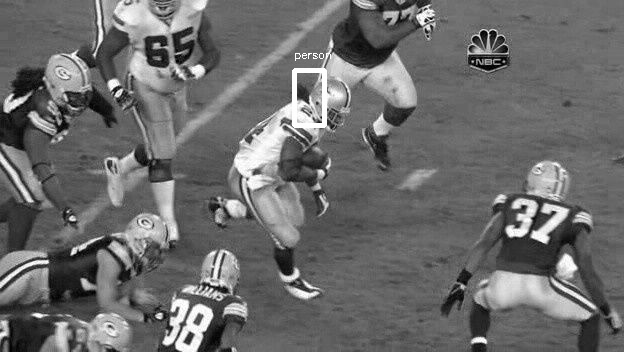person: (314, 79, 350, 132), (313, 79, 349, 132), (315, 79, 351, 132), (314, 78, 350, 131), (314, 80, 350, 133)
target_negative: (73, 241, 615, 334), (81, 279, 519, 344), (53, 323, 542, 346), (157, 330, 526, 346), (598, 22, 607, 269)
